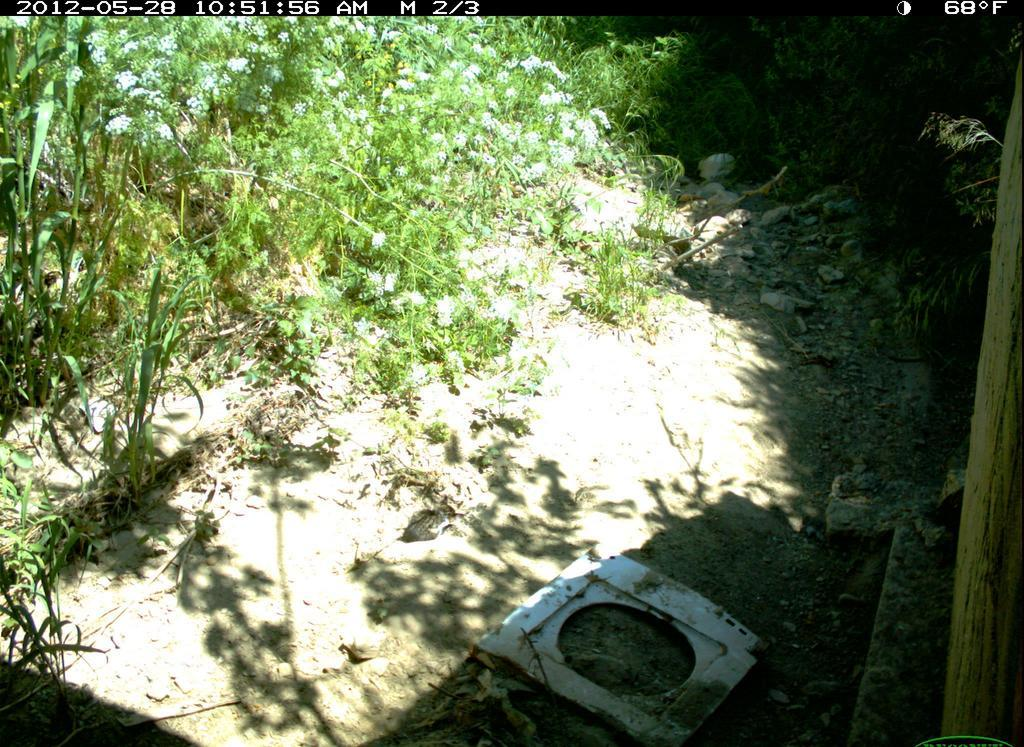cat: (393, 479, 481, 560)
